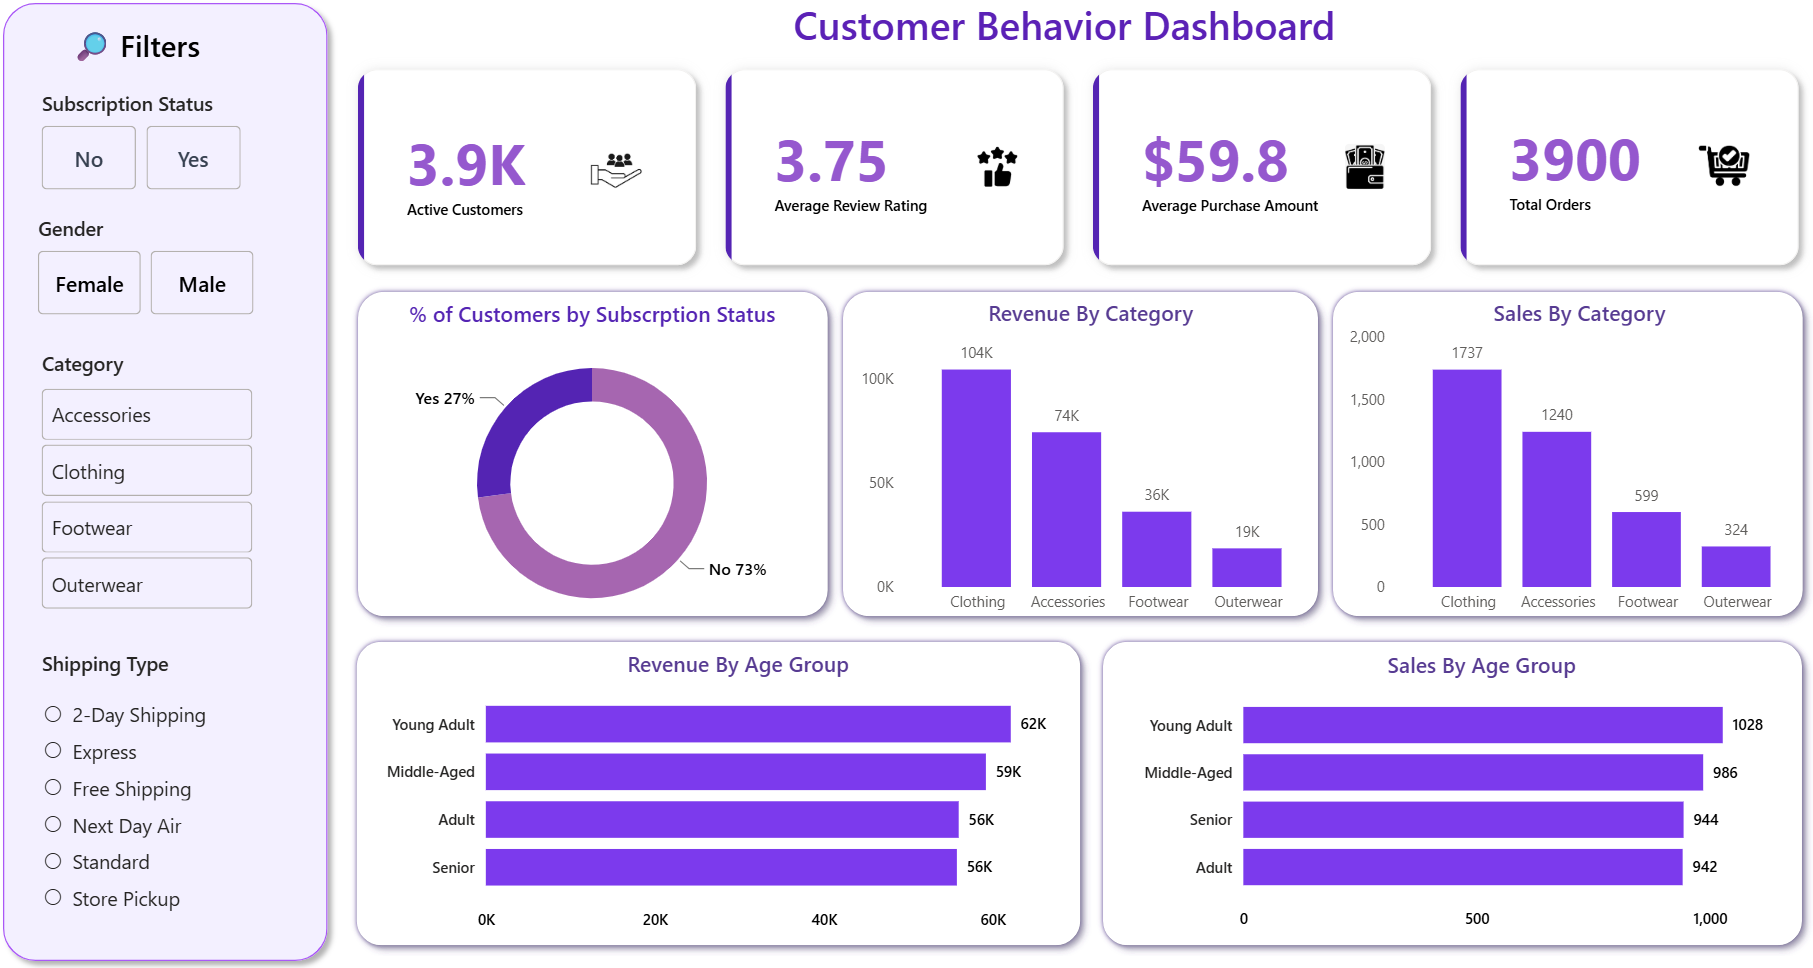

What the dashboard file says about the page in this screenshot:
{"tool":"powerbi","page":{"name":"Page 1","canvas":[1500,800],"ordinal":0},"visuals":[{"type":"cardVisual","fields":{"Data":["customer_behavior_cleaned.No of customers","customer_behavior_cleaned.avg review rating","customer_behavior_cleaned.Avg Purchase amount","CountNonNull(customer_behavior_cleaned.item_purchased)"]},"box":[287.1,51.4,1200,184.3],"z":0},{"type":"textbox","box":[254.3,0,1242.9,70],"z":1000},{"type":"shape","box":[289.6,235.3,401.4,282.9],"z":2000},{"type":"shape","box":[685.3,235.7,405.7,282.9],"z":3000},{"type":"shape","box":[1085.3,235.7,401.4,282.9],"z":4000},{"type":"donutChart","title":"% of Customers by Subscrption Status","fields":{"Category":["customer_behavior_cleaned.subscription_status"],"Y":["CountNonNull(customer_behavior_cleaned.customer_id)"]},"box":[300,242.9,380,285.7],"z":5000},{"type":"clusteredColumnChart","title":"Revenue By Category","fields":{"Category":["customer_behavior_cleaned.category"],"Y":["Sum(customer_behavior_cleaned.purchase_amount)"]},"box":[704.3,250,385.7,265.7],"z":6000},{"type":"clusteredColumnChart","title":"Sales By Category","fields":{"Category":["customer_behavior_cleaned.category"],"Y":["CountNonNull(customer_behavior_cleaned.customer_id)"]},"box":[1102.9,250,385.7,265.7],"z":7000},{"type":"shape","box":[0,0,282.9,800],"z":8000},{"type":"advancedSlicerVisual","title":"Subscription Status","fields":{"Values":["customer_behavior_cleaned.subscription_status"]},"box":[35.7,80,172.9,87.1],"z":9000},{"type":"advancedSlicerVisual","title":"Gender","fields":{"Values":["customer_behavior_cleaned.gender"]},"box":[32.9,181.4,187.1,87.1],"z":10000},{"type":"advancedSlicerVisual","title":"Category","fields":{"Values":["customer_behavior_cleaned.category"]},"box":[35.7,291.4,182.9,217.1],"z":11000},{"type":"listSlicer","title":"Shipping Type","fields":{"Values":["customer_behavior_cleaned.shipping_type"]},"box":[35.7,537.1,168.6,227.1],"z":12000},{"type":"shape","box":[289.1,521.4,608.6,265.7],"z":13000},{"type":"clusteredBarChart","title":"Revenue By Age Group","fields":{"Category":["customer_behavior_cleaned.age_group"],"Y":["Sum(customer_behavior_cleaned.purchase_amount)"]},"box":[316.2,536.8,585.7,238.6],"z":14000},{"type":"shape","box":[897.7,521.4,588.6,265.7],"z":15000},{"type":"clusteredBarChart","title":"Sales By Age Group","fields":{"Category":["customer_behavior_cleaned.age_group"],"Y":["CountNonNull(customer_behavior_cleaned.customer_id)"]},"box":[934.3,537.5,562.9,237.1],"z":16000},{"type":"textbox","box":[51.4,22.9,132.9,47.1],"z":17000}]}

Visuals, with their boxes in screenshot pixels (x1, y1, x2, y2), scaled from the page's 1500x800 canvas onto the 1813x968 screenshot:
cardVisual - customer_behavior_cleaned.No of customers x customer_behavior_cleaned.avg review rating: 347:62:1797:285
textbox: 307:0:1810:85
shape: 350:285:835:627
shape: 828:285:1319:628
shape: 1312:285:1797:628
"% of Customers by Subscrption Status" donutChart: 363:294:822:640
"Revenue By Category" clusteredColumnChart: 851:302:1317:624
"Sales By Category" clusteredColumnChart: 1333:302:1799:624
shape: 0:0:342:967
"Subscription Status" advancedSlicerVisual: 43:97:252:202
"Gender" advancedSlicerVisual: 40:219:266:325
"Category" advancedSlicerVisual: 43:353:264:615
"Shipping Type" listSlicer: 43:650:247:925
shape: 349:631:1085:952
"Revenue By Age Group" clusteredBarChart: 382:650:1090:938
shape: 1085:631:1796:952
"Sales By Age Group" clusteredBarChart: 1129:650:1810:937
textbox: 62:28:223:85
